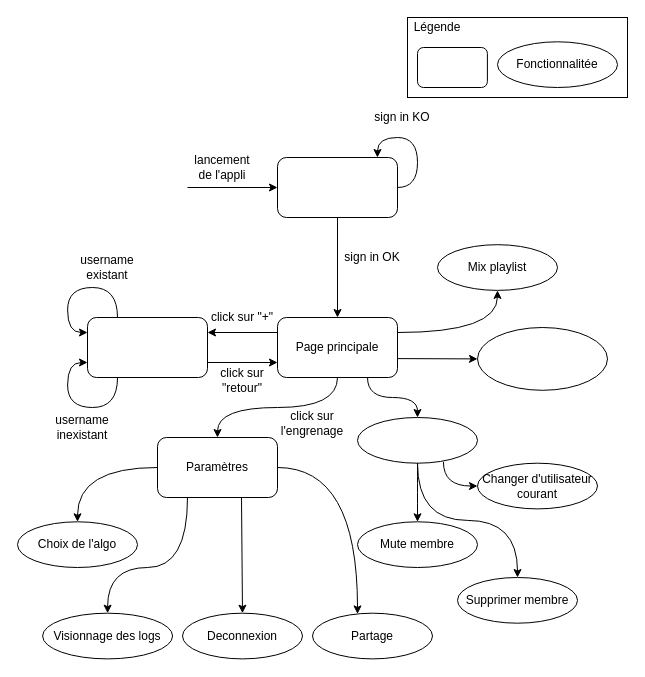
Image size: 645x677. Some labels were removed from this diagram. Each missing label, with the centre of its shape:
"Ajout d'un membre" goes at [147,347].
"Lecteur de musique (play, pause, skip)" goes at [542,358].
"Page de connexion" goes at [337,187].
"Pages" goes at [451,67].
"Visionnage des membres" goes at [417,439].
